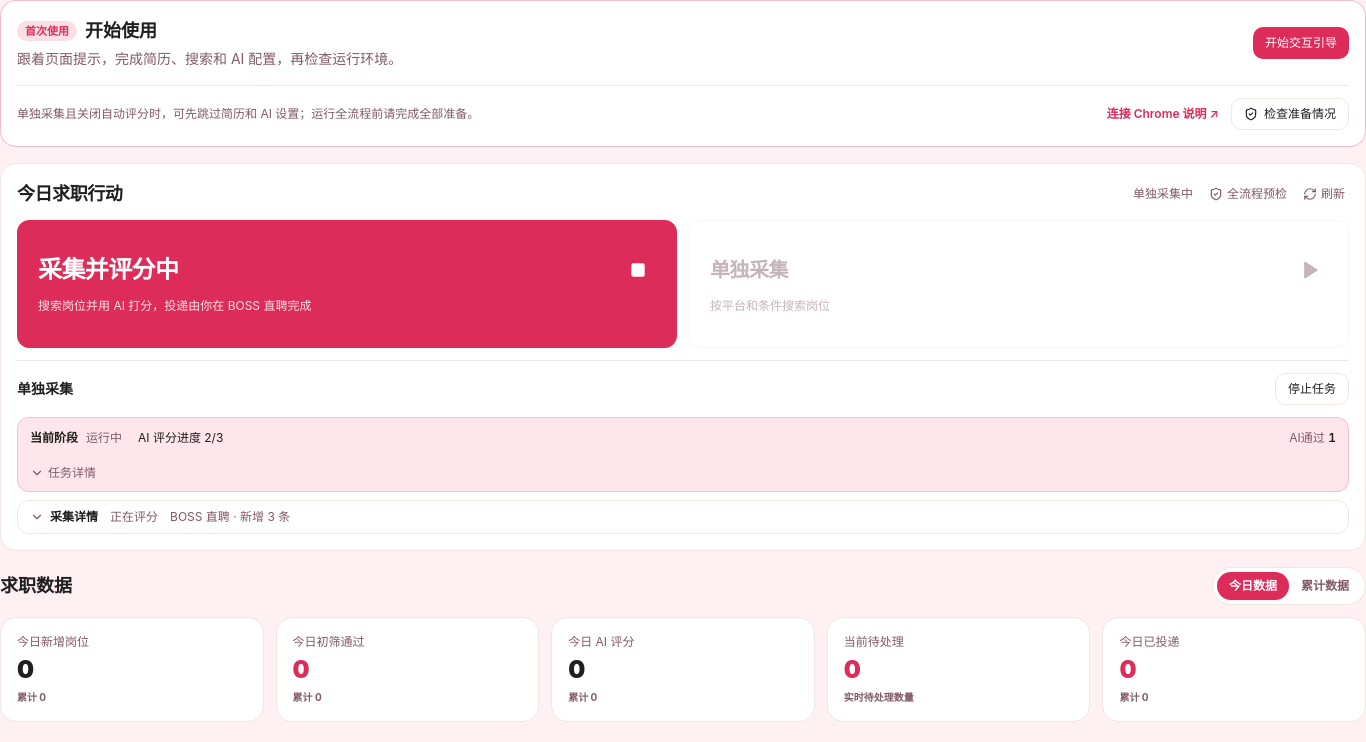
Test: DashboardPage workbench task panel › keeps scoring details and a collection warning that differs from filtering records
Step 1. Click the heading "任务详情" → (63, 473), box [30,465,96,481]
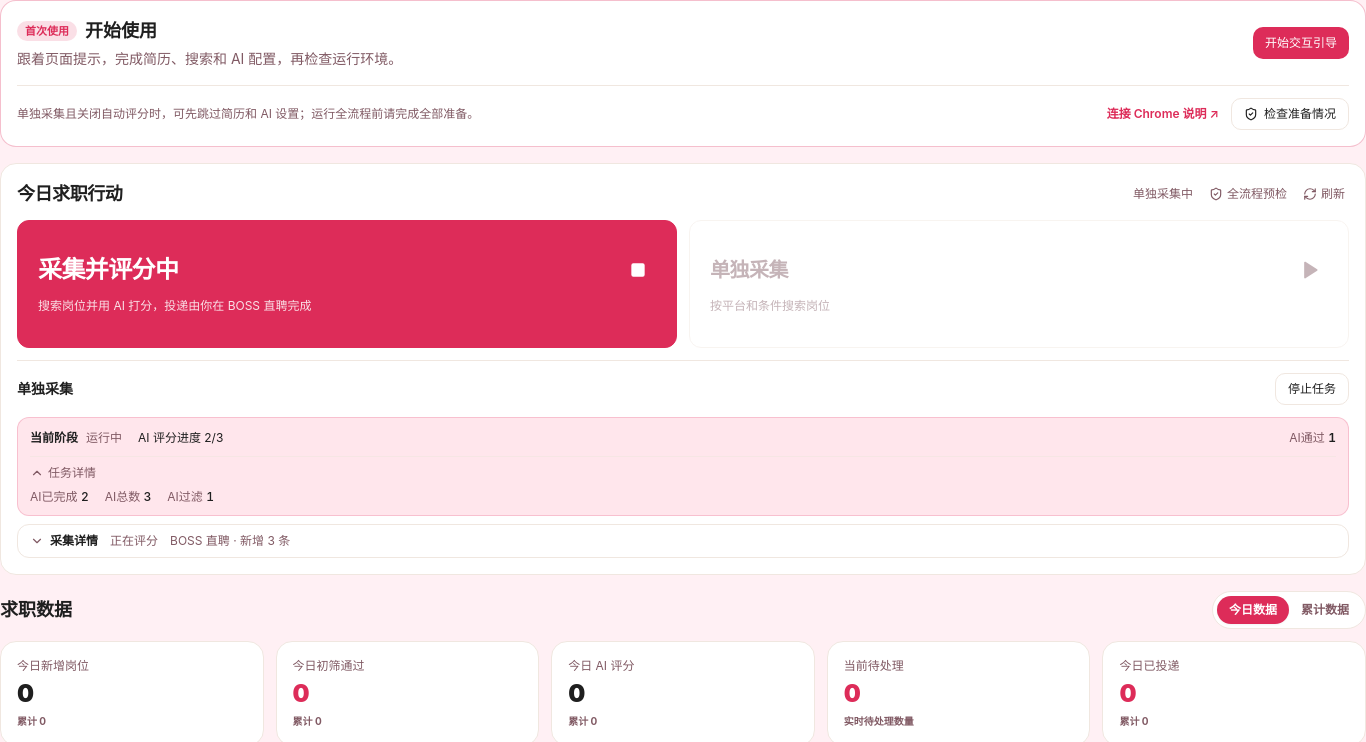
Expected: the text "AI已完成" is shown, [30,489,78,504]
Expected: the text "AI总数" is shown, [105,489,140,504]
Expected: the text "AI过滤" is shown, [167,489,203,504]
Step 2. Click the text "采集详情" → (64, 541), box [30,533,98,549]
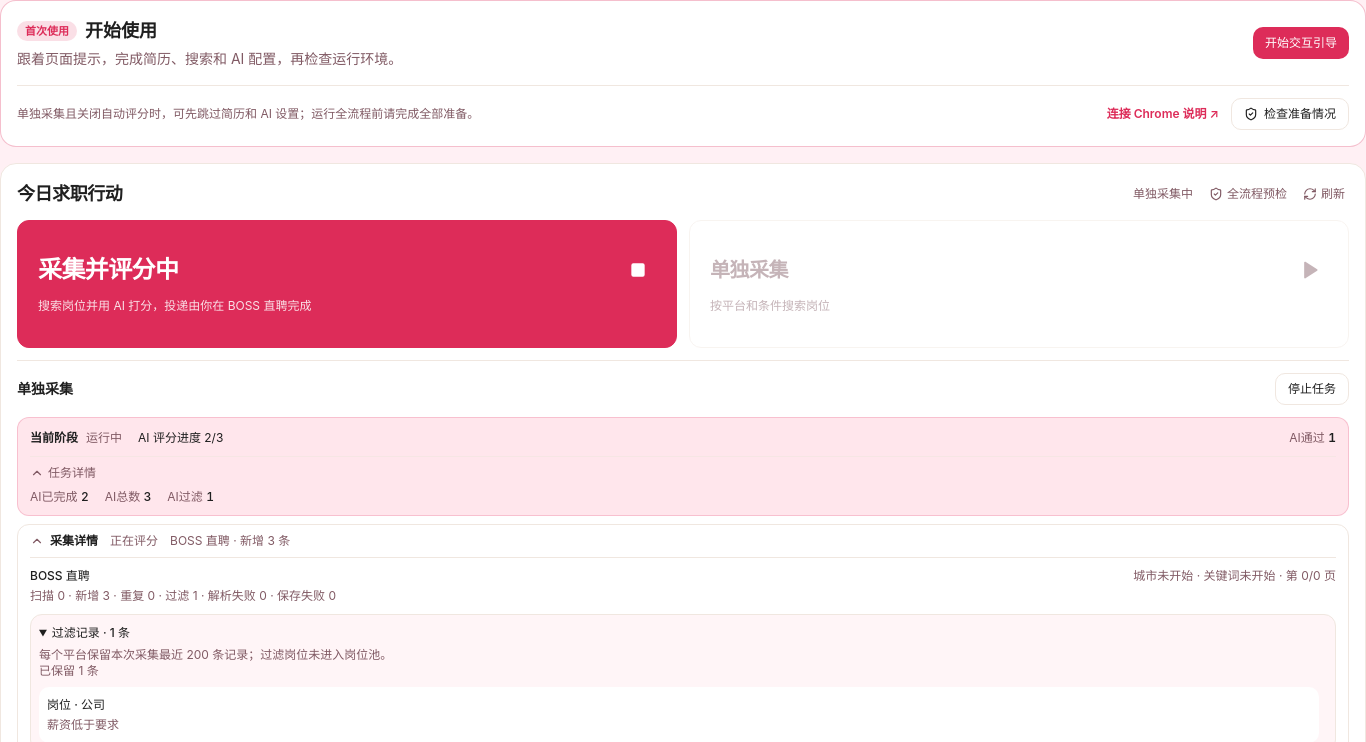
Expected: the text "薪资低于要求" is shown, [47,717,119,732]
